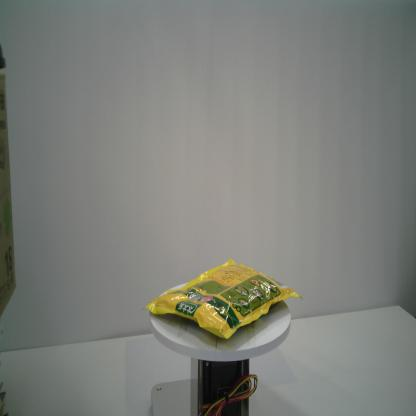Seasoner: (142, 257, 303, 340)
